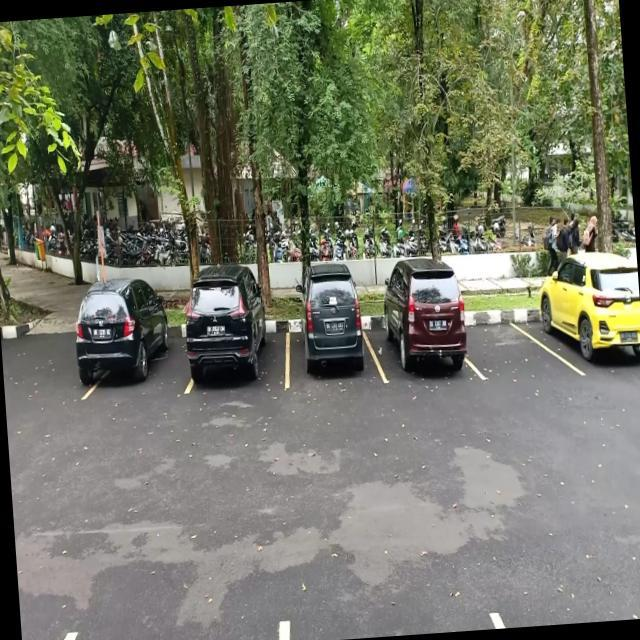empty: (467, 310, 550, 387)
occupied: (80, 294, 188, 408), (535, 277, 640, 378), (184, 302, 290, 395), (370, 288, 476, 380), (282, 298, 374, 386)
